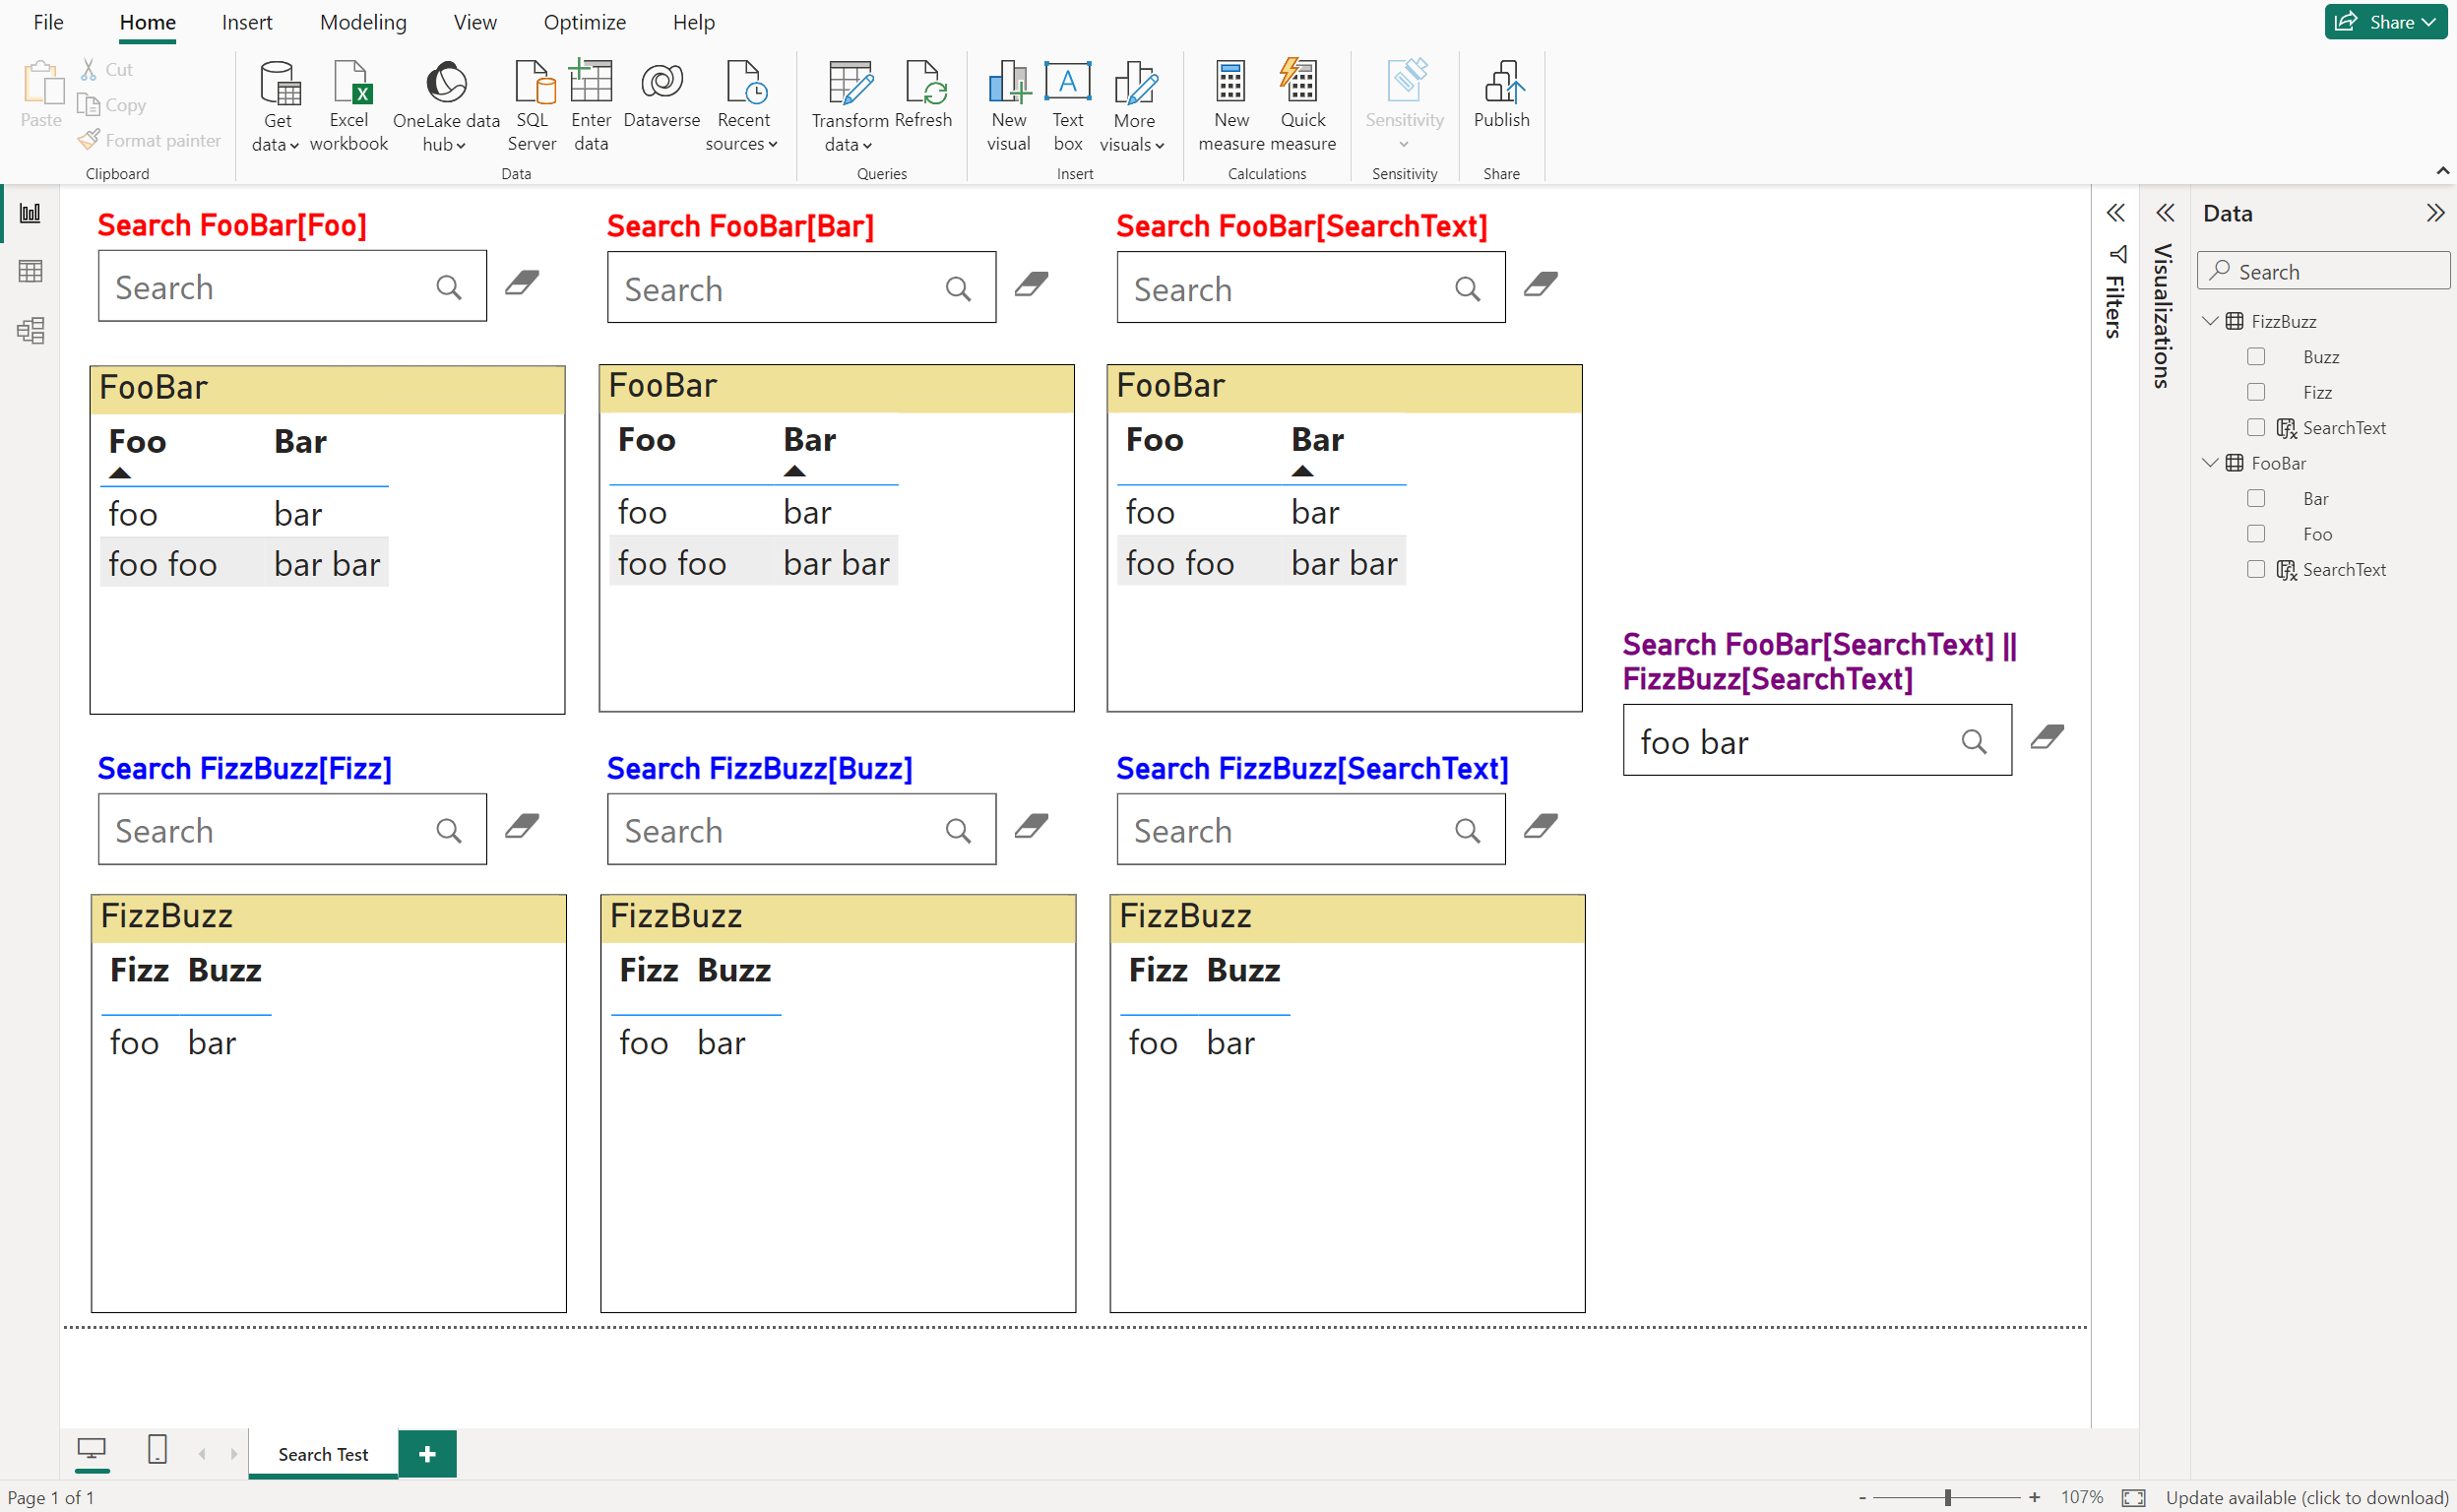

The dashboard page shown, as its layout file describes it:
{"tool":"powerbi","page":{"name":"Search Test","canvas":[1280,720],"ordinal":0},"visuals":[{"type":"tableEx","title":"FooBar","fields":{"Values":["FooBar.Foo","FooBar.Bar"]},"box":[18.7,114.5,299.9,219.7],"z":0},{"type":"textFilter25A4896A83E0487089E2B90C9AE57C8A","title":"Search FooBar[Foo]","fields":{"field":["FooBar.Foo"]},"box":[18.9,14.1,300,90],"z":1000},{"type":"tableEx","title":"FooBar","fields":{"Values":["FooBar.Foo","FooBar.Bar"]},"box":[339.3,113.8,300.3,219.5],"z":2000},{"type":"textFilter25A4896A83E0487089E2B90C9AE57C8A","title":"Search FooBar[Bar]","fields":{"field":["FooBar.Bar"]},"box":[340.1,14.5,300,90],"z":3000},{"type":"tableEx","title":"FooBar","fields":{"Values":["FooBar.Foo","FooBar.Bar"]},"box":[660.1,113.8,300.3,219.5],"z":4000},{"type":"textFilter25A4896A83E0487089E2B90C9AE57C8A","title":"Search FooBar[SearchText]","fields":{"field":["FooBar.SearchText"]},"box":[660.9,14.5,300.3,90],"z":5000},{"type":"tableEx","title":"FizzBuzz","fields":{"Values":["FizzBuzz.Fizz","FizzBuzz.Buzz"]},"box":[19.7,447.8,300.3,264.1],"z":6000},{"type":"textFilter25A4896A83E0487089E2B90C9AE57C8A","title":"Search FizzBuzz[Fizz]","fields":{"field":["FizzBuzz.Fizz"]},"box":[18.4,356.1,300,90],"z":7000},{"type":"tableEx","title":"FizzBuzz","fields":{"Values":["FizzBuzz.Fizz","FizzBuzz.Buzz"]},"box":[340.5,447.8,300.3,264.1],"z":8000},{"type":"textFilter25A4896A83E0487089E2B90C9AE57C8A","title":"Search FizzBuzz[Buzz]","fields":{"field":["FizzBuzz.Buzz"]},"box":[339.6,356.5,300,90],"z":9000},{"type":"tableEx","title":"FizzBuzz","fields":{"Values":["FizzBuzz.Fizz","FizzBuzz.Buzz"]},"box":[661.3,447.8,300.3,264.1],"z":10000},{"type":"textFilter25A4896A83E0487089E2B90C9AE57C8A","title":"Search FizzBuzz[SearchText]","fields":{"field":["FizzBuzz.SearchText"]},"box":[660.5,356.5,300.3,90],"z":11000},{"type":"textFilterRSe8c12c3a530441bf833d876d17d39dda","title":"Search FooBar[SearchText] || FizzBuzz[SearchText]","fields":{"field":["Min(FooBar.SearchText)","Min(FizzBuzz.SearchText)"]},"box":[979.8,278,299.9,105.2],"z":11001}]}

Visuals, with their boxes on the page's 1280x720 design canvas (x1, y1, x2, y2). These are canvas units, not pixel positions in the 2457x1512 screenshot, which may show the page scaled, cropped or inside an application window:
"FooBar" tableEx: [x1=19, y1=114, x2=319, y2=334]
"Search FooBar[Foo]" textFilter25A4896A83E0487089E2B90C9AE57C8A: [x1=19, y1=14, x2=319, y2=104]
"FooBar" tableEx: [x1=339, y1=114, x2=640, y2=333]
"Search FooBar[Bar]" textFilter25A4896A83E0487089E2B90C9AE57C8A: [x1=340, y1=14, x2=640, y2=104]
"FooBar" tableEx: [x1=660, y1=114, x2=960, y2=333]
"Search FooBar[SearchText]" textFilter25A4896A83E0487089E2B90C9AE57C8A: [x1=661, y1=14, x2=961, y2=104]
"FizzBuzz" tableEx: [x1=20, y1=448, x2=320, y2=712]
"Search FizzBuzz[Fizz]" textFilter25A4896A83E0487089E2B90C9AE57C8A: [x1=18, y1=356, x2=318, y2=446]
"FizzBuzz" tableEx: [x1=340, y1=448, x2=641, y2=712]
"Search FizzBuzz[Buzz]" textFilter25A4896A83E0487089E2B90C9AE57C8A: [x1=340, y1=356, x2=640, y2=446]
"FizzBuzz" tableEx: [x1=661, y1=448, x2=962, y2=712]
"Search FizzBuzz[SearchText]" textFilter25A4896A83E0487089E2B90C9AE57C8A: [x1=660, y1=356, x2=961, y2=446]
"Search FooBar[SearchText] || FizzBuzz[SearchText]" textFilterRSe8c12c3a530441bf833d876d17d39dda: [x1=980, y1=278, x2=1280, y2=383]
